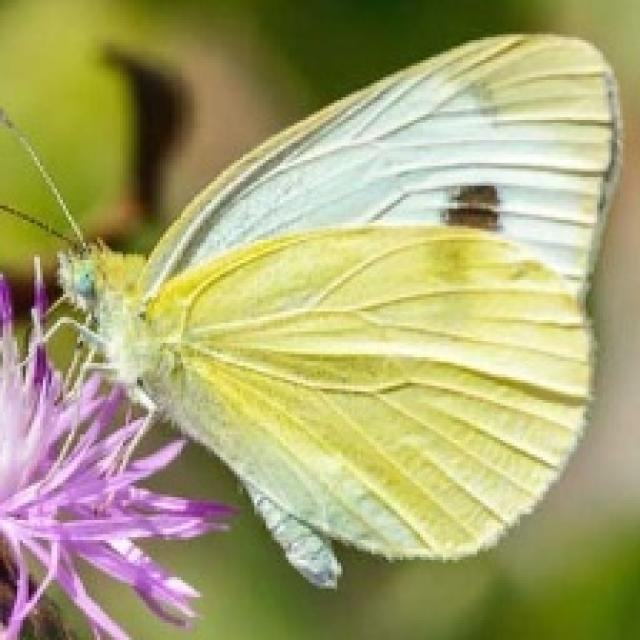butterfly: (0, 29, 623, 592)
